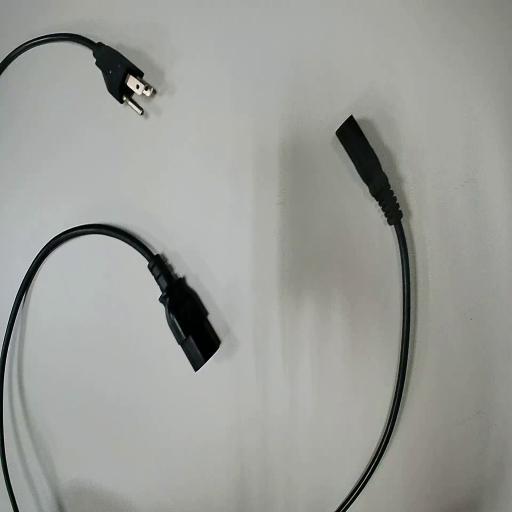wire: (0, 225, 219, 511), (336, 116, 409, 511), (0, 34, 142, 104)
